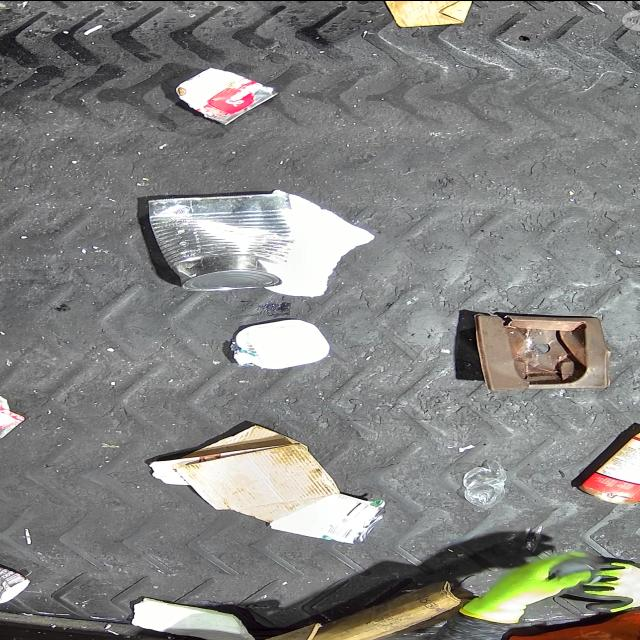can: (147, 192, 293, 290), (270, 491, 390, 543), (174, 66, 278, 124)
